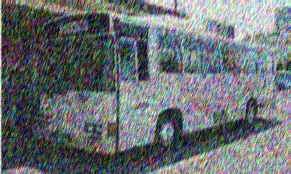bus: (35, 10, 277, 155)
